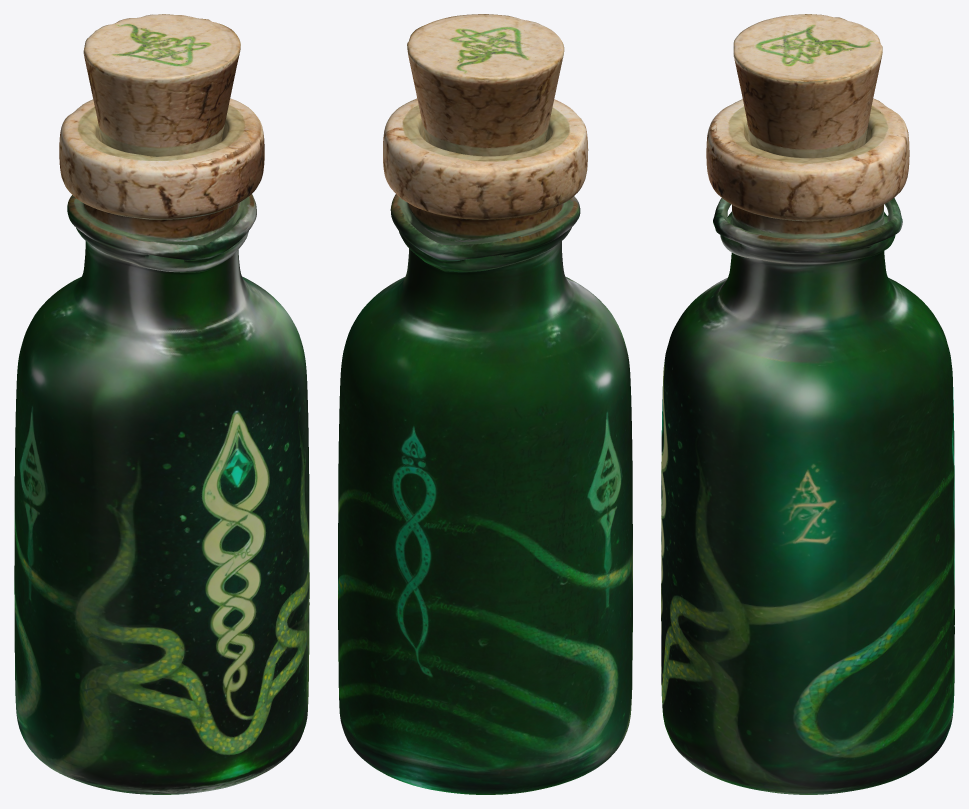
File: The_Antidote_Potion_c_0222101659_refine.glb
The picture shows the model from 3 angles, left to right: view 1: azimuth 30°, elevation 25°; view 2: azimuth 150°, elevation 25°; view 3: azimuth 270°, elevation 25°; orthographic projection.
Size of the model in its own units: 0.7636 by 2 by 0.7643.
Materials: 1 (1 with a texture image).
